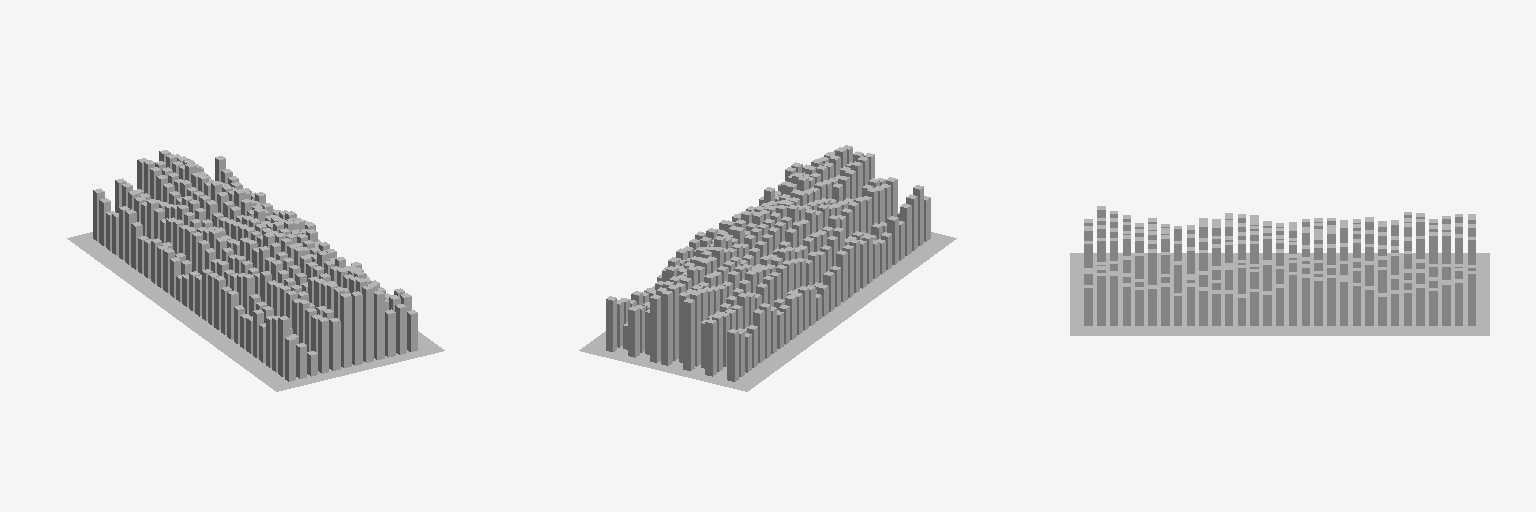
File: bar_model_2019_re.obj
3 renders of one model, left to right at view 1: azimuth 30°, elevation 25°; view 2: azimuth 150°, elevation 25°; view 3: azimuth 270°, elevation 25°, orthographic.
Visible parts, largest first — view 1: Plane, bar_2020-8-1_Cube.943, bar_2020-6-1_Cube.882, bar_2020-7-1_Cube.912, bar_2020-9-1_Cube.974, bar_2020-5-1_Cube.851, bar_2020-4-1_Cube.821, bar_2020-11-1_Cube.11752; view 2: Plane, bar_2020-7-31_Cube.942, bar_2020-5-31_Cube.881, bar_2020-8-31_Cube.973, bar_2020-3-31_Cube.820, bar_2020-1-31_Cube.761, bar_2020-12-31_Cube.11812, bar_2020-10-31_Cube.11751; view 3: Plane.
Boxes of the visible parts, x1,y1,x2,y2 form: Plane: [67, 232, 444, 391]; bar_2020-8-1_Cube.943: [362, 285, 373, 362]; bar_2020-6-1_Cube.882: [340, 293, 351, 367]; bar_2020-7-1_Cube.912: [351, 291, 362, 365]; bar_2020-9-1_Cube.974: [374, 290, 384, 359]; bar_2020-5-1_Cube.851: [329, 318, 340, 370]; bar_2020-4-1_Cube.821: [318, 317, 328, 373]; bar_2020-11-1_Cube.11752: [395, 304, 406, 354]; Plane: [579, 232, 956, 391]; bar_2020-7-31_Cube.942: [661, 290, 672, 365]; bar_2020-5-31_Cube.881: [683, 298, 694, 370]; bar_2020-8-31_Cube.973: [650, 294, 660, 362]; bar_2020-3-31_Cube.820: [705, 319, 716, 376]; bar_2020-1-31_Cube.761: [727, 329, 738, 381]; bar_2020-12-31_Cube.11812: [606, 296, 616, 351]; bar_2020-10-31_Cube.11751: [628, 306, 639, 357]; Plane: [1070, 253, 1489, 335].
Size of the model in its own units: 22.9 by 10 by 49.35.